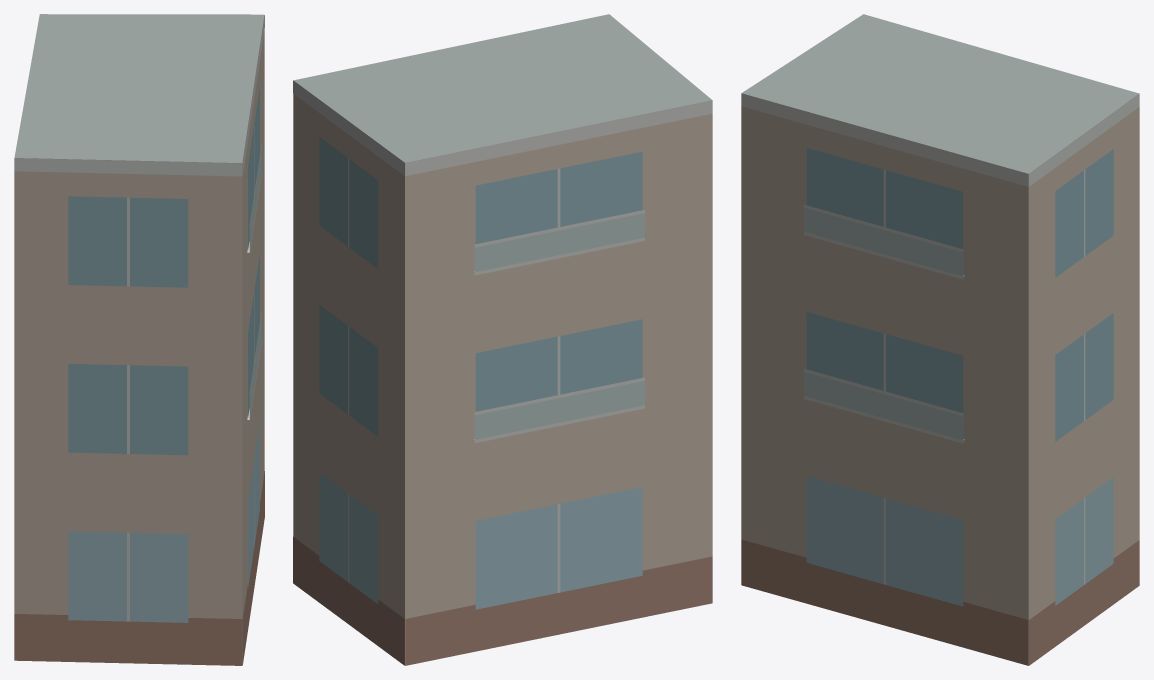
The model's file is survey-upis-32999675.glb.
3 renders of one model, left to right at view 1: azimuth 30°, elevation 25°; view 2: azimuth 150°, elevation 25°; view 3: azimuth 270°, elevation 25°, orthographic. The views are drawn at different scales.
Visible parts, largest first — view 1: survey-upis-32999675.tmp; view 2: survey-upis-32999675.tmp; view 3: survey-upis-32999675.tmp.
Part boxes in pixels (x1,y1,x2,y2): survey-upis-32999675.tmp: (14, 14, 264, 665); survey-upis-32999675.tmp: (293, 14, 712, 665); survey-upis-32999675.tmp: (741, 14, 1139, 665).
Bounding box in the file's own units: 6.38 × 9.15 × 6.72.
